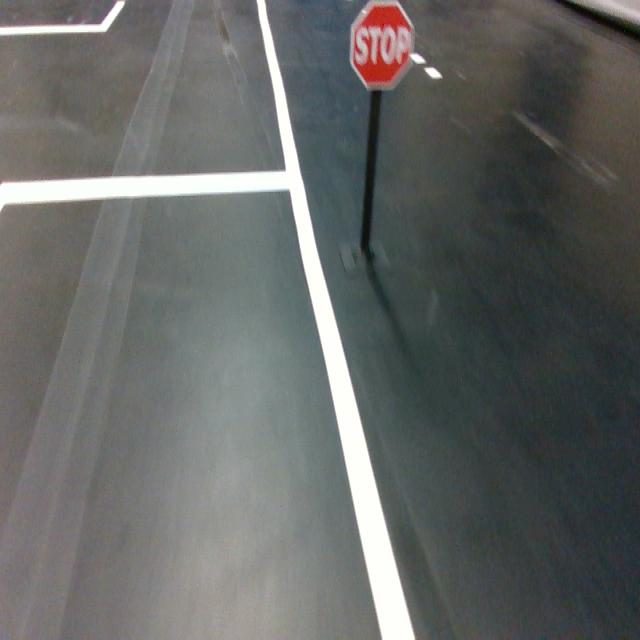stop-sign: (349, 0, 415, 92)
